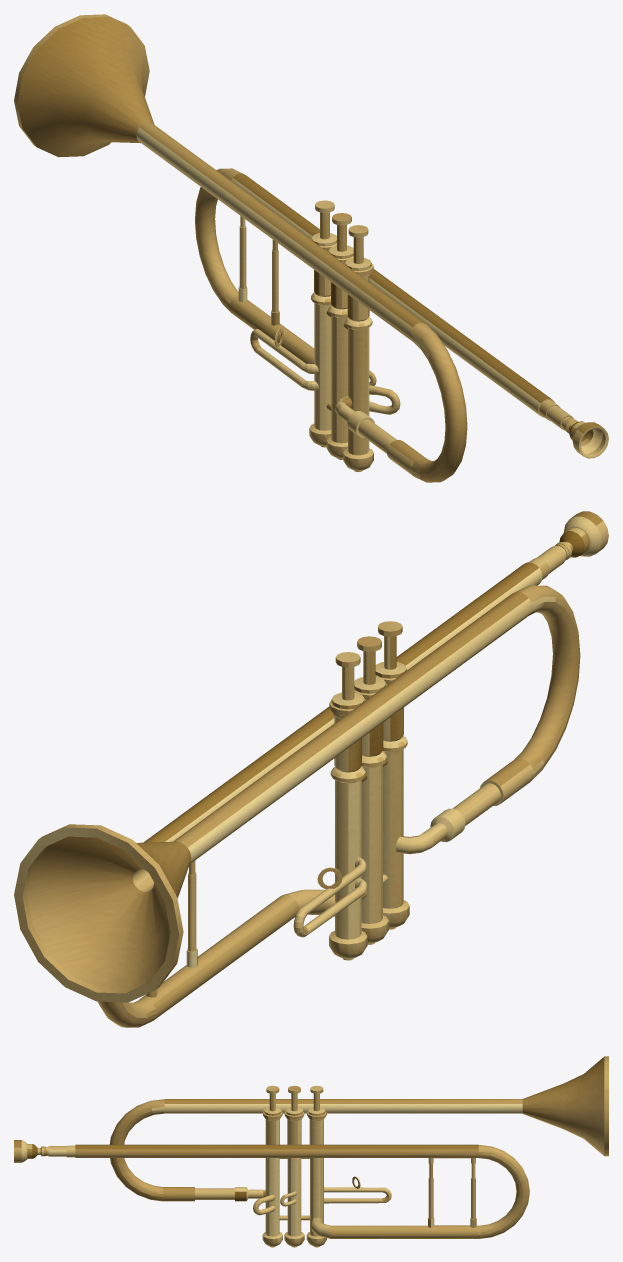
Rendered from Trumpet.glb.
3 views of the same model, one above another, from view 1: azimuth 30°, elevation 25°; view 2: azimuth 150°, elevation 25°; view 3: azimuth 270°, elevation 25° (orthographic). The views are drawn at different scales.
Visible parts, largest first — view 1: Cylinder.002_Material_0, Cylinder_Material_0, Vert.001_Material_0, Vert.003_Material_0, Vert.002_Material_0, Cylinder.001_Material_0; view 2: Cylinder.002_Material_0, Cylinder_Material_0, Vert.003_Material_0, Vert.002_Material_0, Vert.001_Material_0, Cylinder.001_Material_0; view 3: Cylinder.002_Material_0, Cylinder_Material_0, Vert.002_Material_0, Vert.001_Material_0, Vert.003_Material_0, Cylinder.001_Material_0, Cylinder.003_Material_0.
Part boxes in pixels (bbox=[...]): Cylinder.002_Material_0: bbox=[14, 14, 467, 482]; Cylinder_Material_0: bbox=[195, 168, 608, 458]; Vert.001_Material_0: bbox=[343, 225, 373, 471]; Vert.003_Material_0: bbox=[309, 200, 336, 447]; Vert.002_Material_0: bbox=[326, 213, 353, 459]; Cylinder.001_Material_0: bbox=[250, 328, 318, 390]; Cylinder.002_Material_0: bbox=[14, 585, 580, 1002]; Cylinder_Material_0: bbox=[98, 511, 608, 1027]; Vert.003_Material_0: bbox=[329, 652, 367, 960]; Vert.002_Material_0: bbox=[354, 636, 388, 944]; Vert.001_Material_0: bbox=[375, 621, 409, 929]; Cylinder.001_Material_0: bbox=[293, 857, 367, 937]; Cylinder.002_Material_0: bbox=[109, 1056, 608, 1201]; Cylinder_Material_0: bbox=[14, 1140, 529, 1238]; Vert.002_Material_0: bbox=[284, 1085, 304, 1247]; Vert.001_Material_0: bbox=[262, 1085, 282, 1247]; Vert.003_Material_0: bbox=[306, 1085, 326, 1247]; Cylinder.001_Material_0: bbox=[324, 1176, 391, 1203]; Cylinder.003_Material_0: bbox=[253, 1194, 275, 1215].
Size of the model in its own units: 17.56 by 32.49 by 98.28.
Materials: 1 (1 with a texture image).
